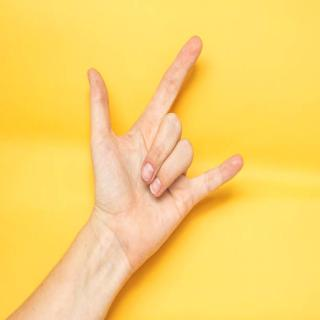I Love You: (80, 20, 252, 264)
